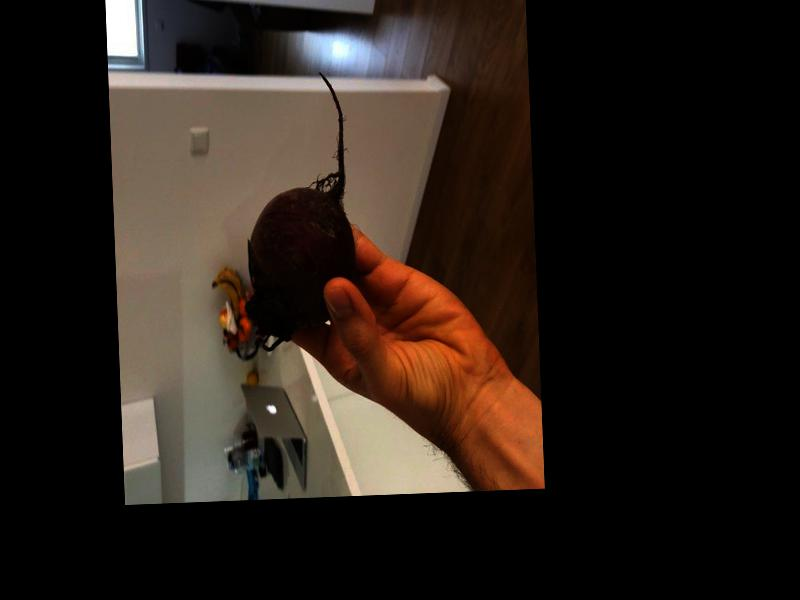Beet: (237, 70, 357, 350)
